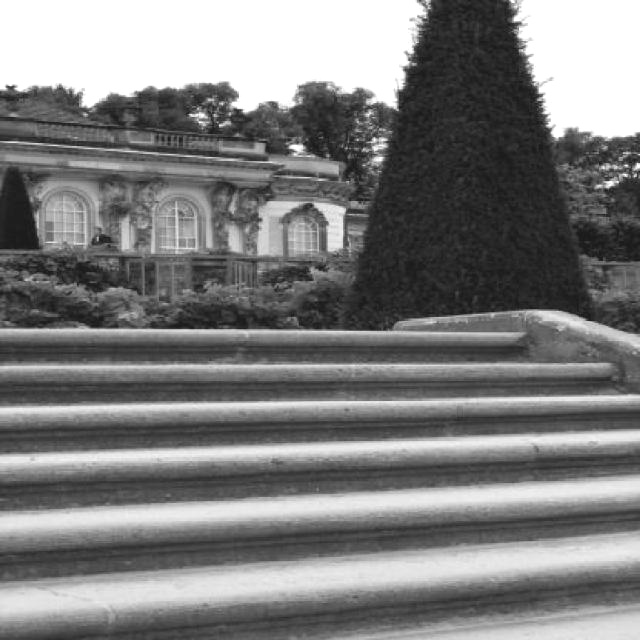stair: (0, 324, 640, 640)
